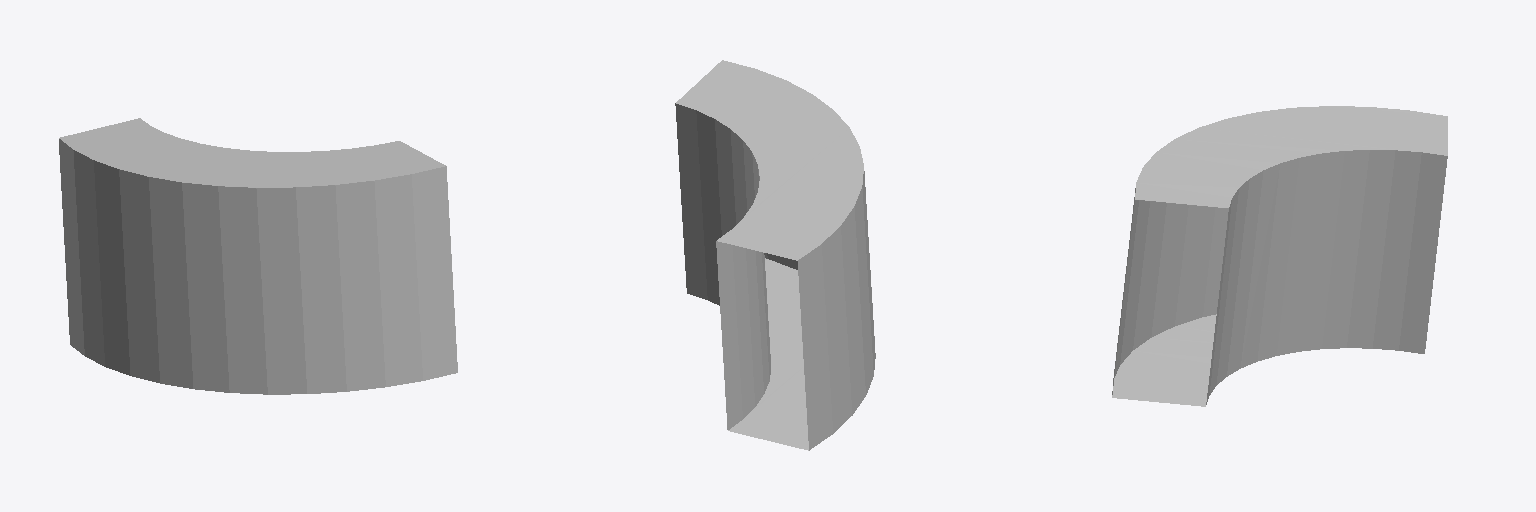
The model's file is original-16.obj.
3 views of the same model, side by side, from view 1: azimuth 30°, elevation 25°; view 2: azimuth 150°, elevation 25°; view 3: azimuth 270°, elevation 25° (orthographic).
Parts seen in each view (by area): view 1: 3dw.eb6176d02ba79f[number redacted]f30b5cd77ee/Model/mesh1/mesh1-geometry/; view 2: 3dw.eb6176d02ba79f[number redacted]f30b5cd77ee/Model/mesh1/mesh1-geometry/; view 3: 3dw.eb6176d02ba79f[number redacted]f30b5cd77ee/Model/mesh1/mesh1-geometry/.
Part boxes in pixels (x1,y1,x2,y2): 3dw.eb6176d02ba79f[number redacted]f30b5cd77ee/Model/mesh1/mesh1-geometry/: (59, 118, 457, 394); 3dw.eb6176d02ba79f[number redacted]f30b5cd77ee/Model/mesh1/mesh1-geometry/: (675, 60, 875, 450); 3dw.eb6176d02ba79f[number redacted]f30b5cd77ee/Model/mesh1/mesh1-geometry/: (1112, 106, 1447, 406).
Bounding box in the file's own units: 0.0275 × 0.0254 × 0.0339.